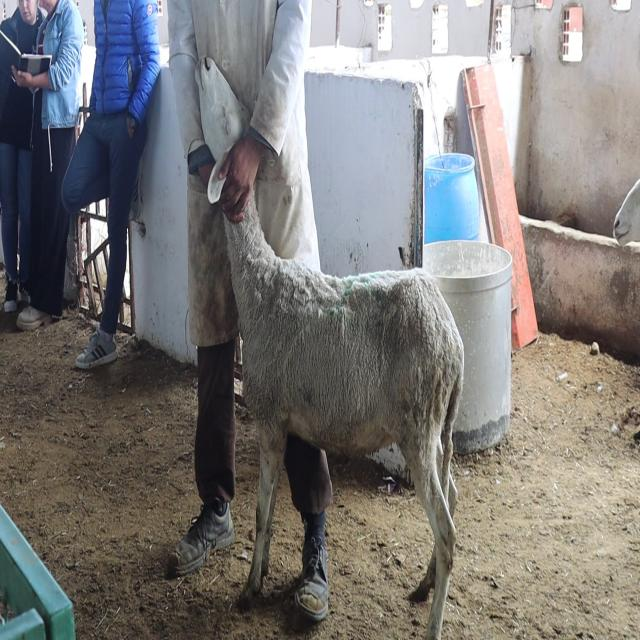Score_1: (224, 199, 464, 639)
